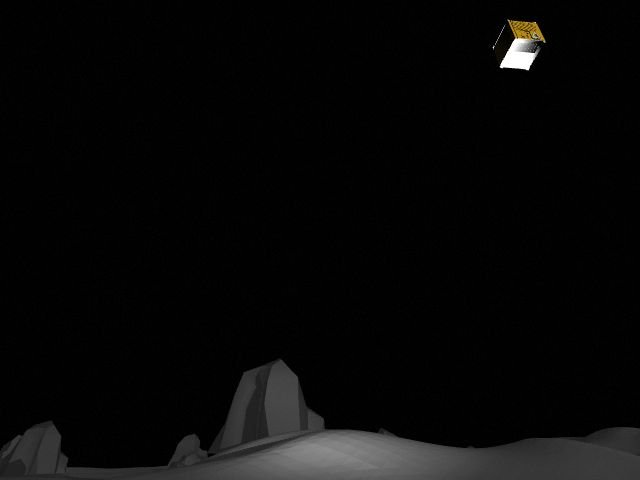cubesat: (486, 16, 552, 77)
